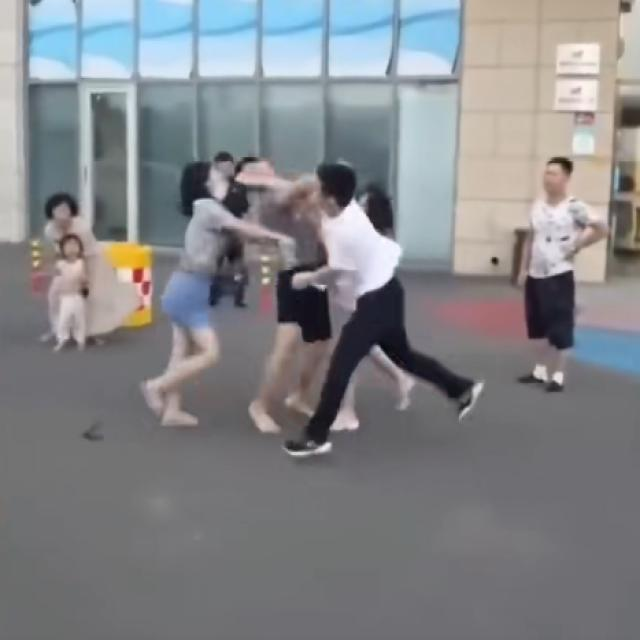fight: (178, 154, 403, 317)
nofight: (509, 152, 608, 392), (24, 185, 117, 368)
